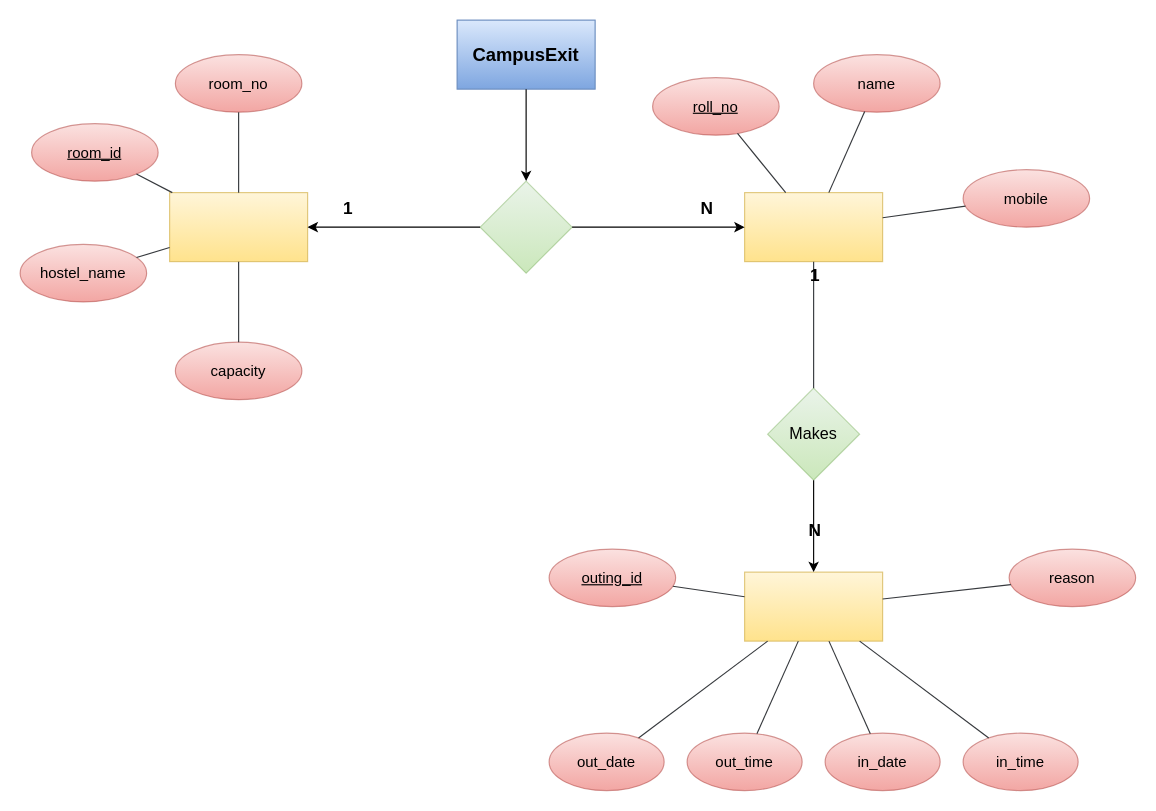
The diagram is 1156 pixels wide and 811 high, and some of its shapes have lost their labels. Here are the shapes that lost their labels. From the top down, the centre of each, then its label:
At pixel 238 226: "Room".
At pixel 525 226: "Houses".
At pixel 813 226: "Student".
At pixel 813 606: "Outing".
